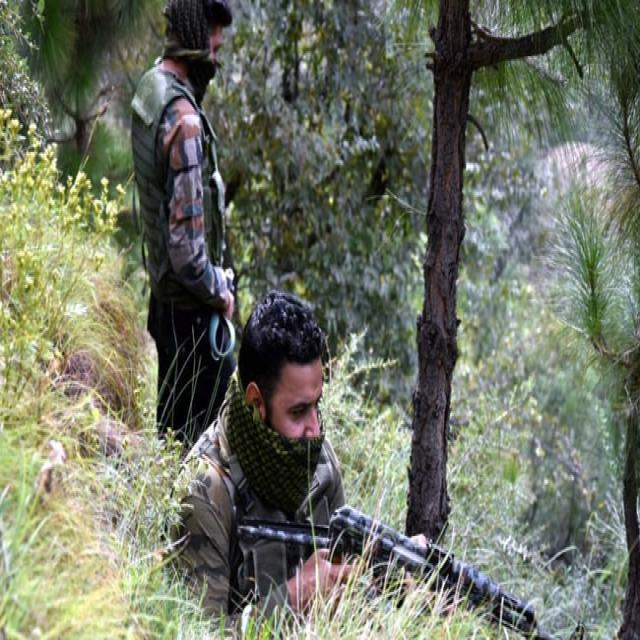Forest: (0, 0, 640, 640)
Militant: (178, 273, 431, 640), (116, 1, 271, 451)
